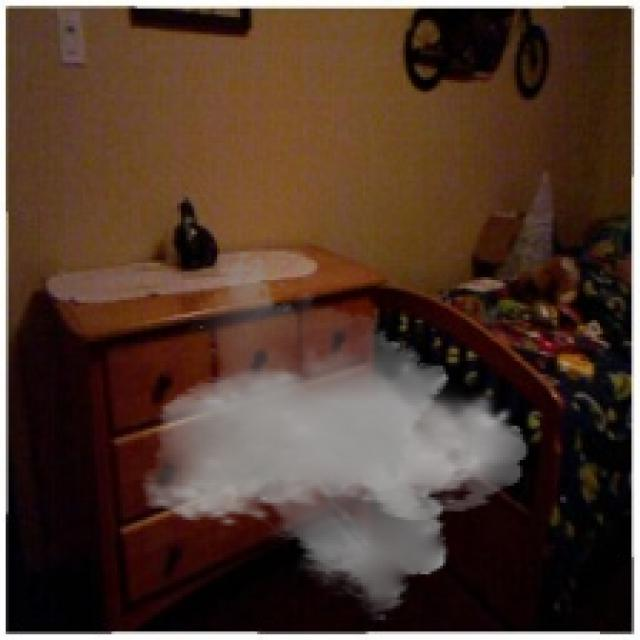smoke: (140, 248, 529, 623)
